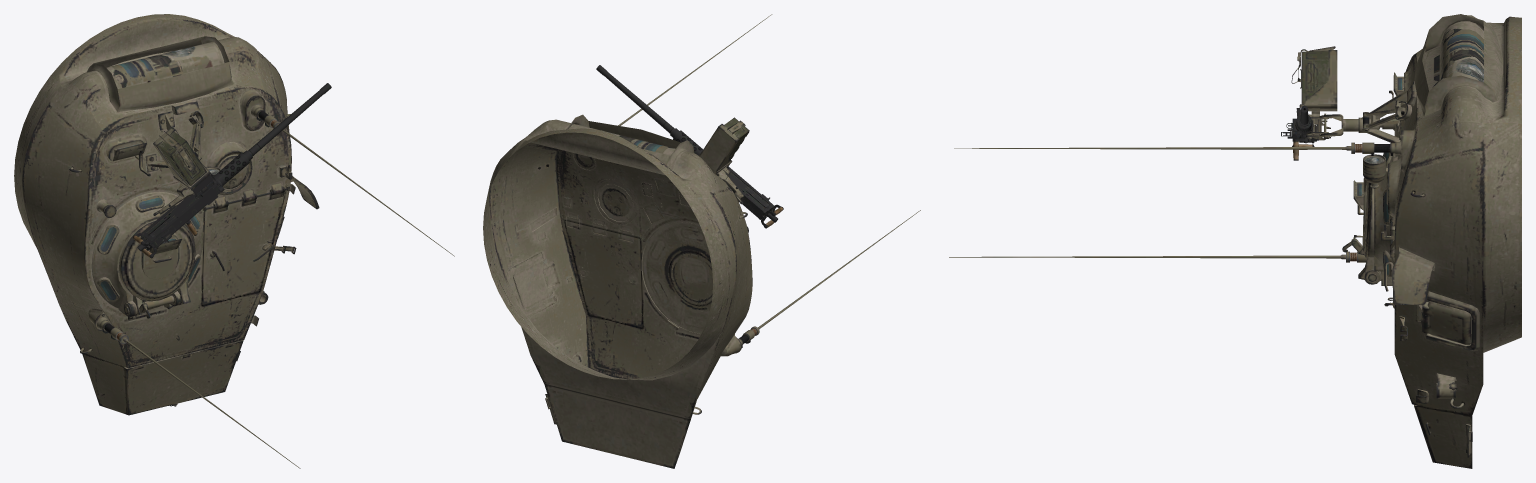
File: Turret_01.glb
The picture shows the model from 3 angles, left to right: view 1: azimuth 30°, elevation 25°; view 2: azimuth 150°, elevation 25°; view 3: azimuth 270°, elevation 25°; orthographic projection. The views are drawn at different scales.
Visible parts, largest first — view 1: set_0_group_0; view 2: set_0_group_0; view 3: set_0_group_0.
Boxes of the visible parts, left/top/right/bottom form: set_0_group_0: left=14, top=14, right=454, bottom=468; set_0_group_0: left=483, top=14, right=920, bottom=468; set_0_group_0: left=949, top=14, right=1521, bottom=468.
Bounding box in the file's own units: 1.98 × 2.61 × 3.29.
1 material, 1 textured.
